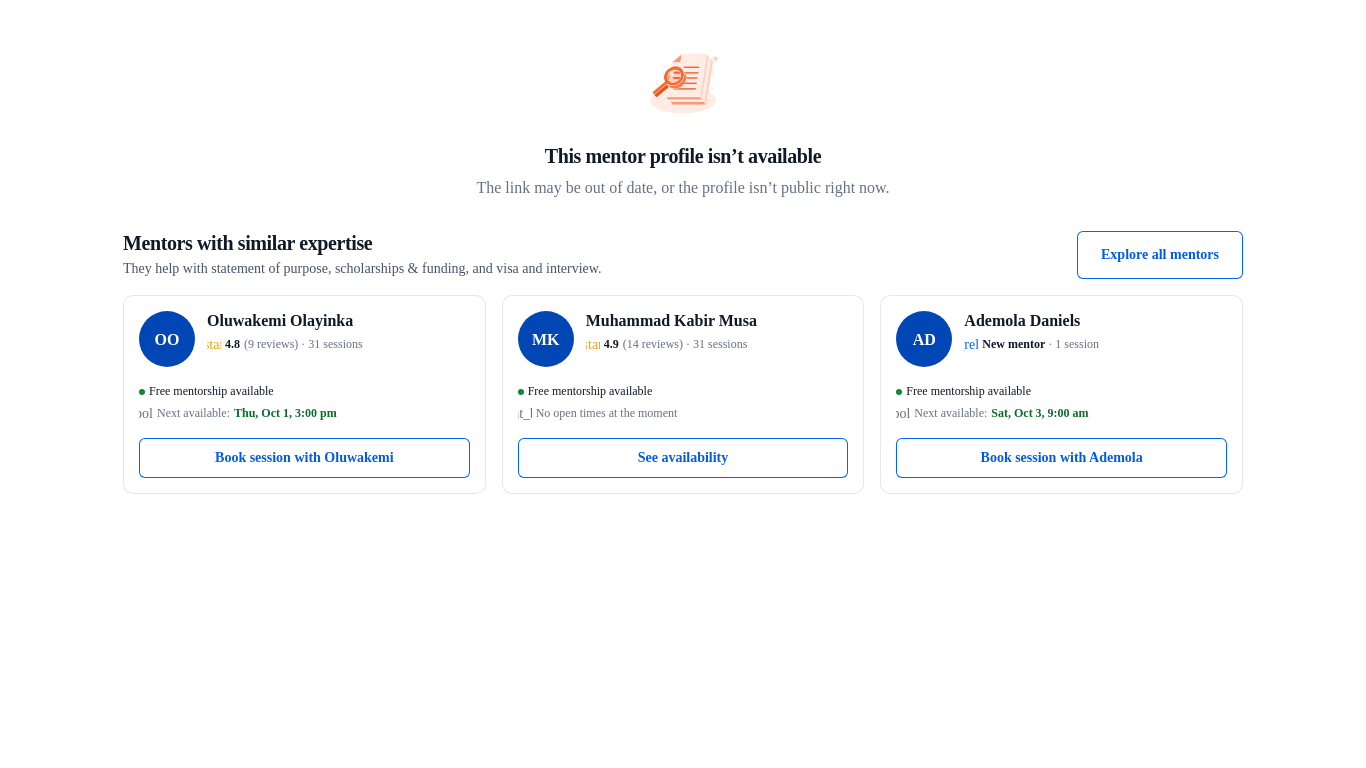
MentorProfileScreen — the four states › a suggested mentor books in the same booking modal, for that mentor (review of #69)
Step 1. Click the button "Book session with Oluwakemi" → (304, 458), box [139,438,470,478]
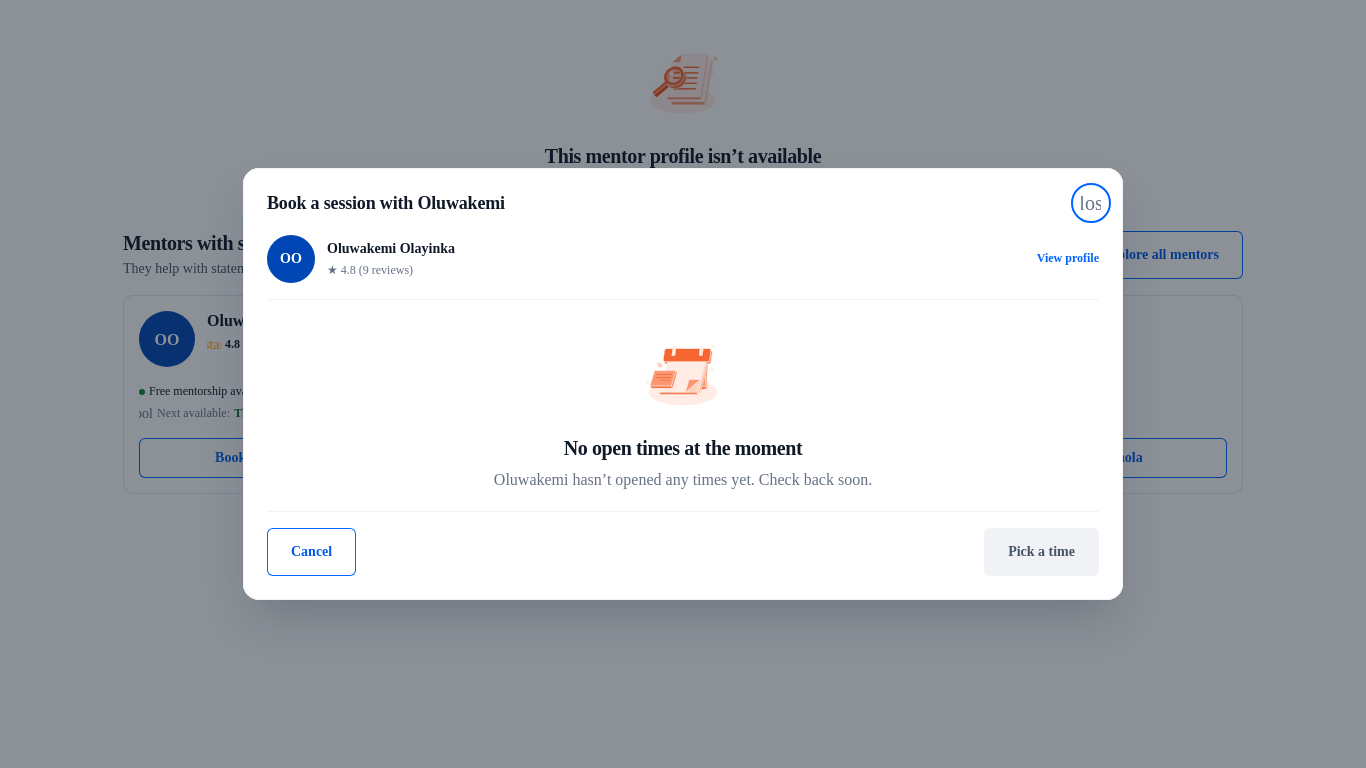
Expected: the dialog shows "Oluwakemi Olayinka", [327,241,455,256]
Step 2. Click the button "Cancel" → (312, 552), box [267,528,356,576]
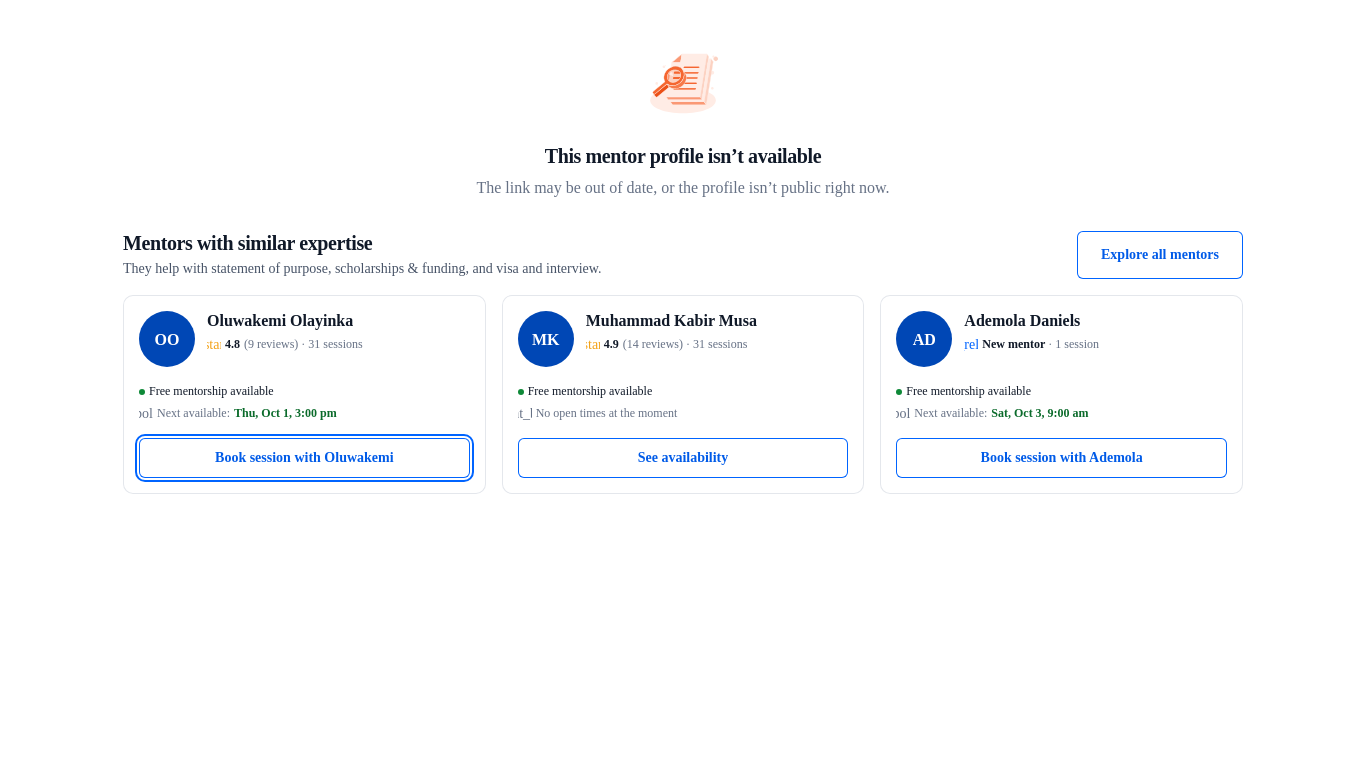
Expected: the dialog is gone
// Another suggestion: the booking follows.
Step 3. Click the button "See availability" → (683, 458), box [518,438,848,478]
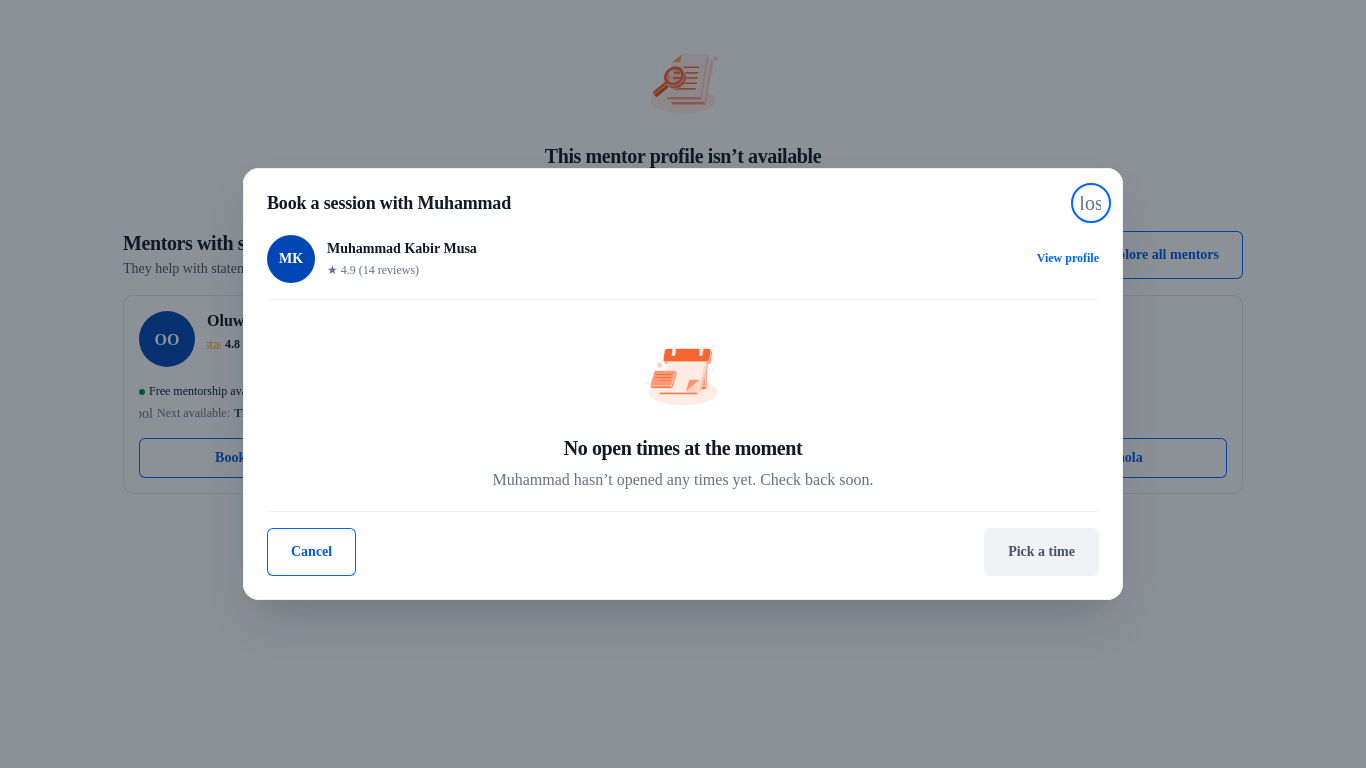
Expected: the dialog shows "Muhammad Kabir Musa", [327,241,477,256]
